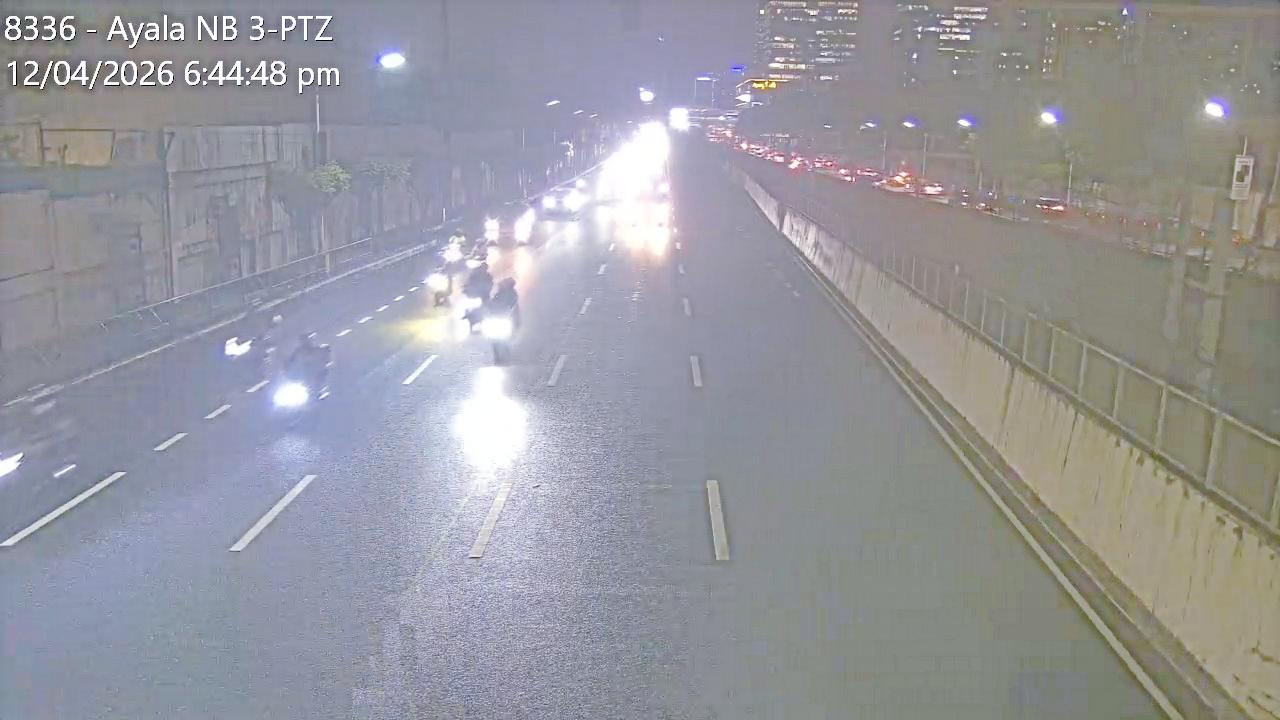Car: (486, 195, 540, 250), (542, 182, 585, 225)
Motor: (217, 290, 280, 380), (269, 340, 333, 412), (464, 257, 496, 331), (480, 301, 517, 364), (428, 255, 458, 318), (437, 222, 467, 274), (463, 235, 489, 281)
Not Accident: (465, 261, 520, 364), (472, 201, 536, 282)
